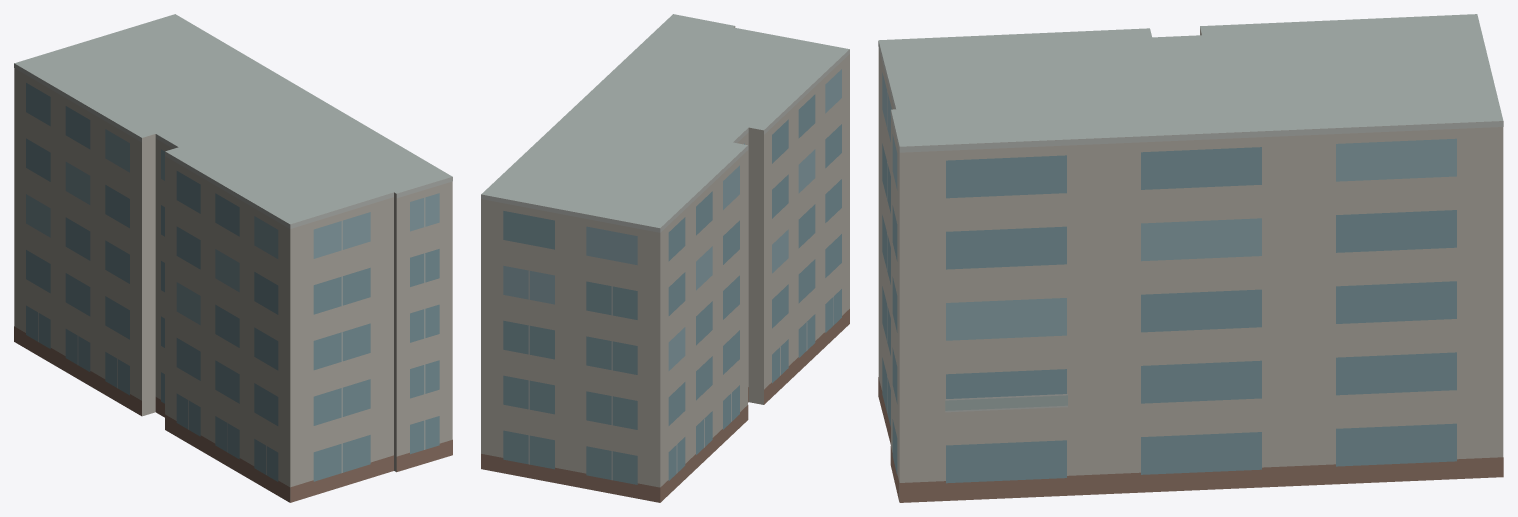
Rendered from survey-upis-32621002.glb.
The picture shows the model from 3 angles, left to right: view 1: azimuth 30°, elevation 25°; view 2: azimuth 150°, elevation 25°; view 3: azimuth 270°, elevation 25°; orthographic projection. The views are drawn at different scales.
Parts seen in each view (by area): view 1: survey-upis-32621002.tmp; view 2: survey-upis-32621002.tmp; view 3: survey-upis-32621002.tmp.
Part boxes in pixels (left/top/right/bottom): survey-upis-32621002.tmp: left=14, top=14, right=452, bottom=502; survey-upis-32621002.tmp: left=481, top=14, right=849, bottom=502; survey-upis-32621002.tmp: left=878, top=14, right=1503, bottom=502.
Bounding box in the file's own units: 11.64 × 14.55 × 23.15.
